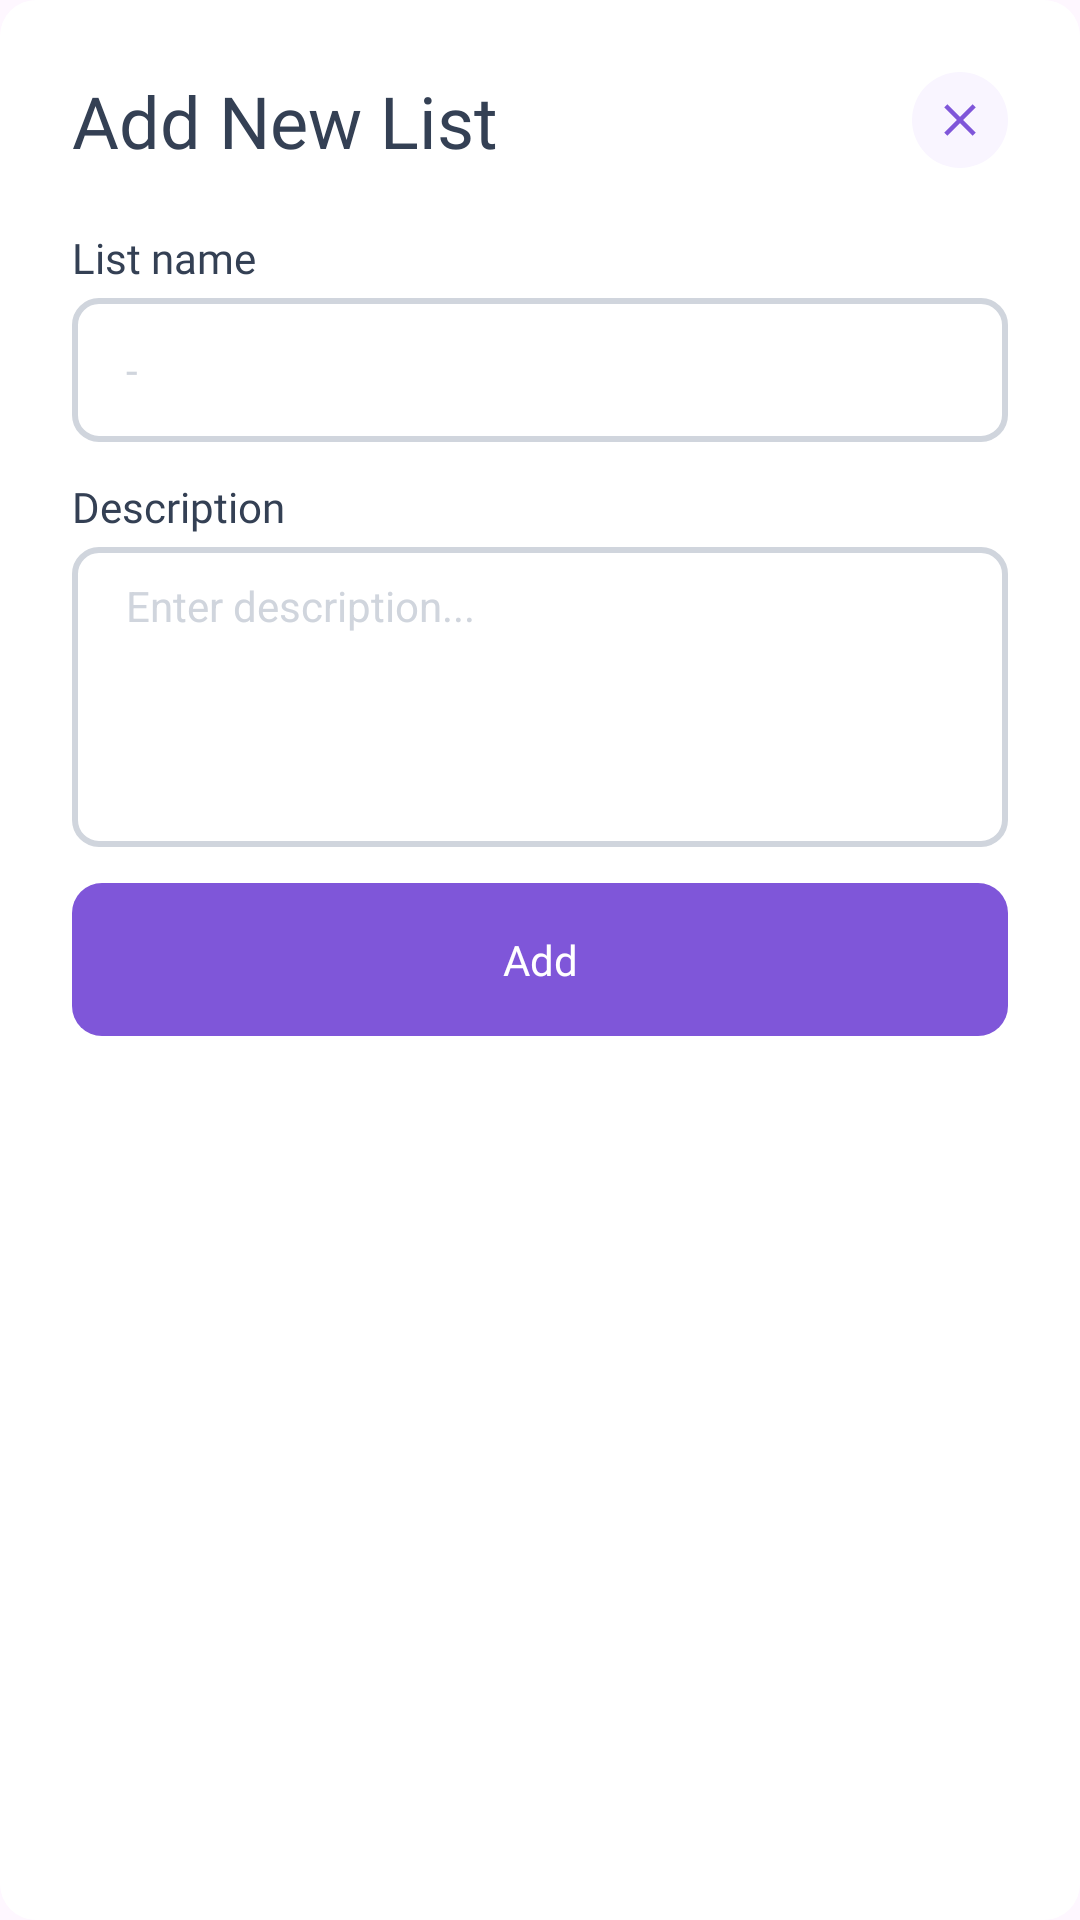

Where to tap for icons on this 1080 × 1920 app screen, as point (x, y):
clear: point (960, 120)
